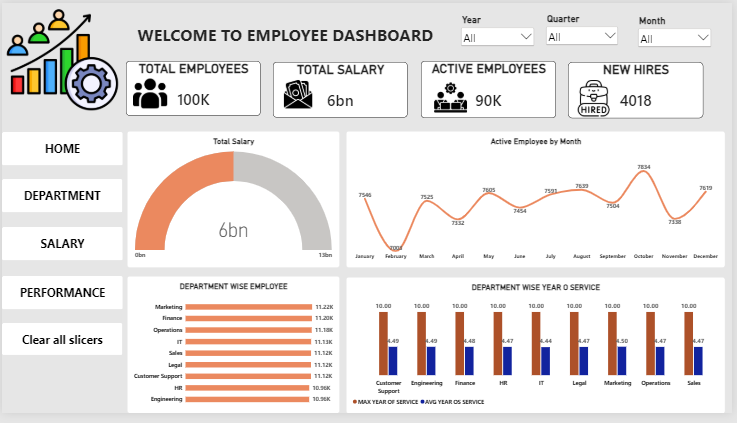

What the dashboard file says about the page in this screenshot:
{"tool":"powerbi","page":{"name":"HOME","canvas":[1920,1080],"ordinal":1},"visuals":[{"type":"textbox","box":[318.2,54.5,854.5,78.8],"z":0},{"type":"image","box":[0,0,318.1,299.5],"z":1000},{"type":"card","title":"ACTIVE EMPLOYEES","fields":{"Values":["KPI.Active Employee"]},"box":[1102.3,153.5,355,150.3],"z":2000,"group":"g2"},{"type":"actionButton","box":[0,339,318.1,88.2],"z":2000},{"type":"card","title":"TOTAL EMPLOYEES","fields":{"Values":["KPI.Total Employee"]},"box":[327.1,153.9,354.3,144.3],"z":3000,"group":"g3"},{"type":"actionButton","box":[0,463.8,317.2,87.9],"z":3000},{"type":"actionButton","box":[0,589.7,318.1,88.2],"z":4000},{"type":"actionButton","box":[0,717.2,318.1,88.2],"z":5000},{"type":"gauge","fields":{"Y":["KPI.Total Salary"]},"box":[330,338,560,360],"z":6000},{"type":"group","id":"g1","title":"Group 4","box":[1490.7,155.8,356.3,147.8],"z":7000},{"type":"card","title":"NEW HIRES","fields":{"Values":["KPI.New Hires"]},"box":[1490.7,155.8,356.3,147.8],"z":8000,"group":"g5"},{"type":"clusteredBarChart","title":"DEPARTMENT WISE EMPLOYEE","fields":{"Category":["Employee.Department"],"Y":["KPI.Total Employee"]},"box":[330,718,560,362],"z":8000},{"type":"image","box":[1102.3,204.7,155.9,92.3],"z":9000,"group":"g2"},{"type":"clusteredColumnChart","title":"DEPARTMENT WISE YEAR O SERVICE","fields":{"Category":["Employee.Department"],"Y":["KPI.MAX YEAR OF SERVICE","KPI.AVG YEAR OS SERVICE"]},"box":[906,720,998,360],"z":9000},{"type":"image","box":[345.7,192.9,90,92.9],"z":10000,"group":"g3"},{"type":"lineChart","fields":{"Category":["Employee.Hire_Date.Variation.Date Hierarchy.Month"],"Y":["KPI.Active Employee"]},"box":[906,338,998,360],"z":10000},{"type":"image","box":[1490.7,204,135.1,96.4],"z":10001,"group":"g5"},{"type":"slicer","fields":{"Values":["Employee.Hire_Date.Variation.Date Hierarchy.Year"]},"box":[1202.9,29.4,202.9,100],"z":11000},{"type":"card","title":"TOTAL SALARY","fields":{"Values":["KPI.Total Salary"]},"box":[712.9,154.3,354.3,145.7],"z":11000,"group":"g4"},{"type":"image","box":[712.9,200,132.9,80],"z":12000,"group":"g4"},{"type":"actionButton","box":[0,843.1,317.2,84.5],"z":12000},{"type":"slicer","fields":{"Values":["Employee.Hire_Date.Variation.Date Hierarchy.Quarter"]},"box":[1427.3,27.3,200,100],"z":13000},{"type":"slicer","fields":{"Values":["Employee.Hire_Date.Variation.Date Hierarchy.Month"]},"box":[1669.7,30.3,203,103],"z":14000},{"type":"group","id":"g2","title":"Group 1","box":[1102.3,153.5,355,150.3],"z":15000},{"type":"group","id":"g3","title":"Group 3","box":[327.1,153.9,354.3,144.3],"z":16000},{"type":"group","id":"g4","title":"Group 5","box":[712.9,154.3,354.3,145.7],"z":17000},{"type":"group","id":"g5","title":"Group 2","box":[1490.7,155.8,356.3,147.8],"z":18004,"group":"g1"}]}

Visuals, with their boxes in screenshot pixels (x1, y1, x2, y2), scaled from the page's 1920x1080 canvas onto the 737x423 screenshot:
textbox: left=122, top=21, right=450, bottom=52
image: left=0, top=0, right=122, bottom=117
"ACTIVE EMPLOYEES" card: left=423, top=60, right=559, bottom=119
actionButton: left=0, top=133, right=122, bottom=167
"TOTAL EMPLOYEES" card: left=126, top=60, right=262, bottom=117
actionButton: left=0, top=182, right=122, bottom=216
actionButton: left=0, top=231, right=122, bottom=266
actionButton: left=0, top=281, right=122, bottom=315
gauge - KPI.Total Salary: left=127, top=132, right=342, bottom=273
"Group 4" group: left=572, top=61, right=709, bottom=119
"NEW HIRES" card: left=572, top=61, right=709, bottom=119
"DEPARTMENT WISE EMPLOYEE" clusteredBarChart: left=127, top=281, right=342, bottom=422
image: left=423, top=80, right=483, bottom=116
"DEPARTMENT WISE YEAR O SERVICE" clusteredColumnChart: left=348, top=282, right=731, bottom=422
image: left=133, top=76, right=167, bottom=112
lineChart - Employee.Hire_Date.Variation.Date Hierarchy.Month x KPI.Active Employee: left=348, top=132, right=731, bottom=273
image: left=572, top=80, right=624, bottom=118
slicer - Employee.Hire_Date.Variation.Date Hierarchy.Year: left=462, top=12, right=540, bottom=51
"TOTAL SALARY" card: left=274, top=60, right=410, bottom=118
image: left=274, top=78, right=325, bottom=110
actionButton: left=0, top=330, right=122, bottom=363
slicer - Employee.Hire_Date.Variation.Date Hierarchy.Quarter: left=548, top=11, right=625, bottom=50
slicer - Employee.Hire_Date.Variation.Date Hierarchy.Month: left=641, top=12, right=719, bottom=52
"Group 1" group: left=423, top=60, right=559, bottom=119
"Group 3" group: left=126, top=60, right=262, bottom=117
"Group 5" group: left=274, top=60, right=410, bottom=118
"Group 2" group: left=572, top=61, right=709, bottom=119
